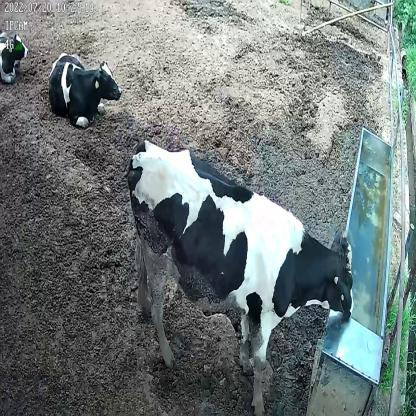cow: (127, 137, 356, 416), (47, 48, 119, 130), (0, 29, 29, 86)
